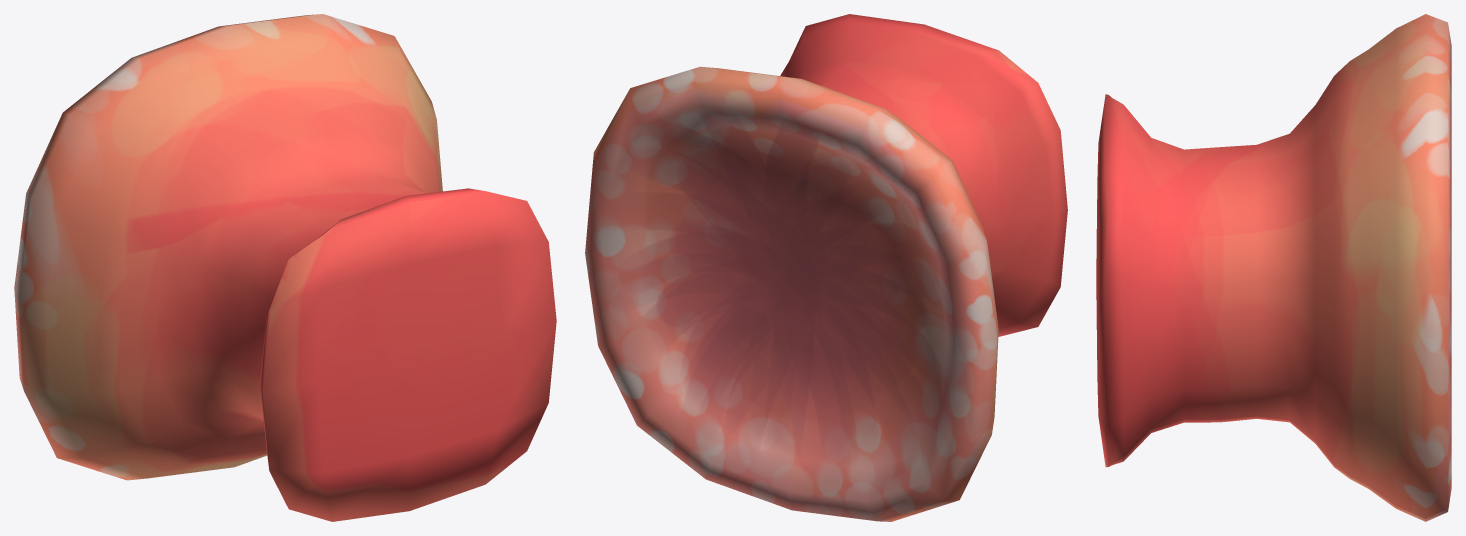
The model's file is Anemone001.fbx.
3 views of the same model, side by side, from view 1: azimuth 30°, elevation 25°; view 2: azimuth 150°, elevation 25°; view 3: azimuth 270°, elevation 25° (orthographic). The views are drawn at different scales.
Visible parts, largest first — view 1: SeaAnemone01; view 2: SeaAnemone01; view 3: SeaAnemone01.
Part boxes in pixels (left/top/right/bottom): SeaAnemone01: left=14, top=14, right=556, bottom=521; SeaAnemone01: left=585, top=14, right=1067, bottom=521; SeaAnemone01: left=1096, top=14, right=1451, bottom=521.
Size of the model in its own units: 726 by 726 by 524.
1 material, 1 textured.
